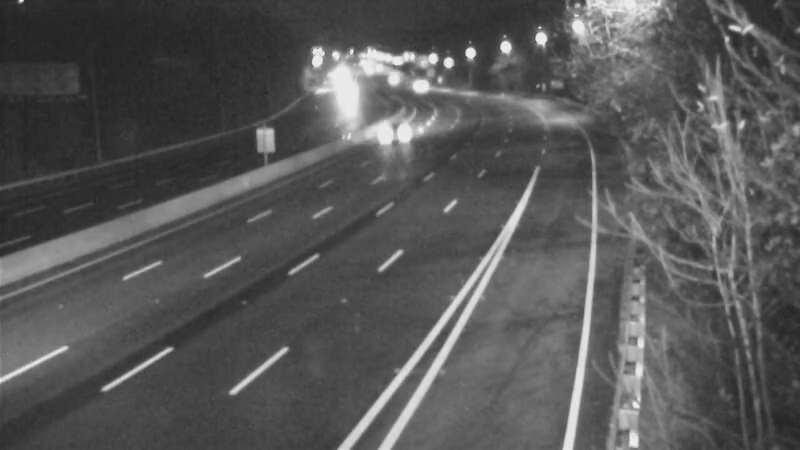vehicle: (391, 60, 441, 110), (377, 106, 427, 156)
